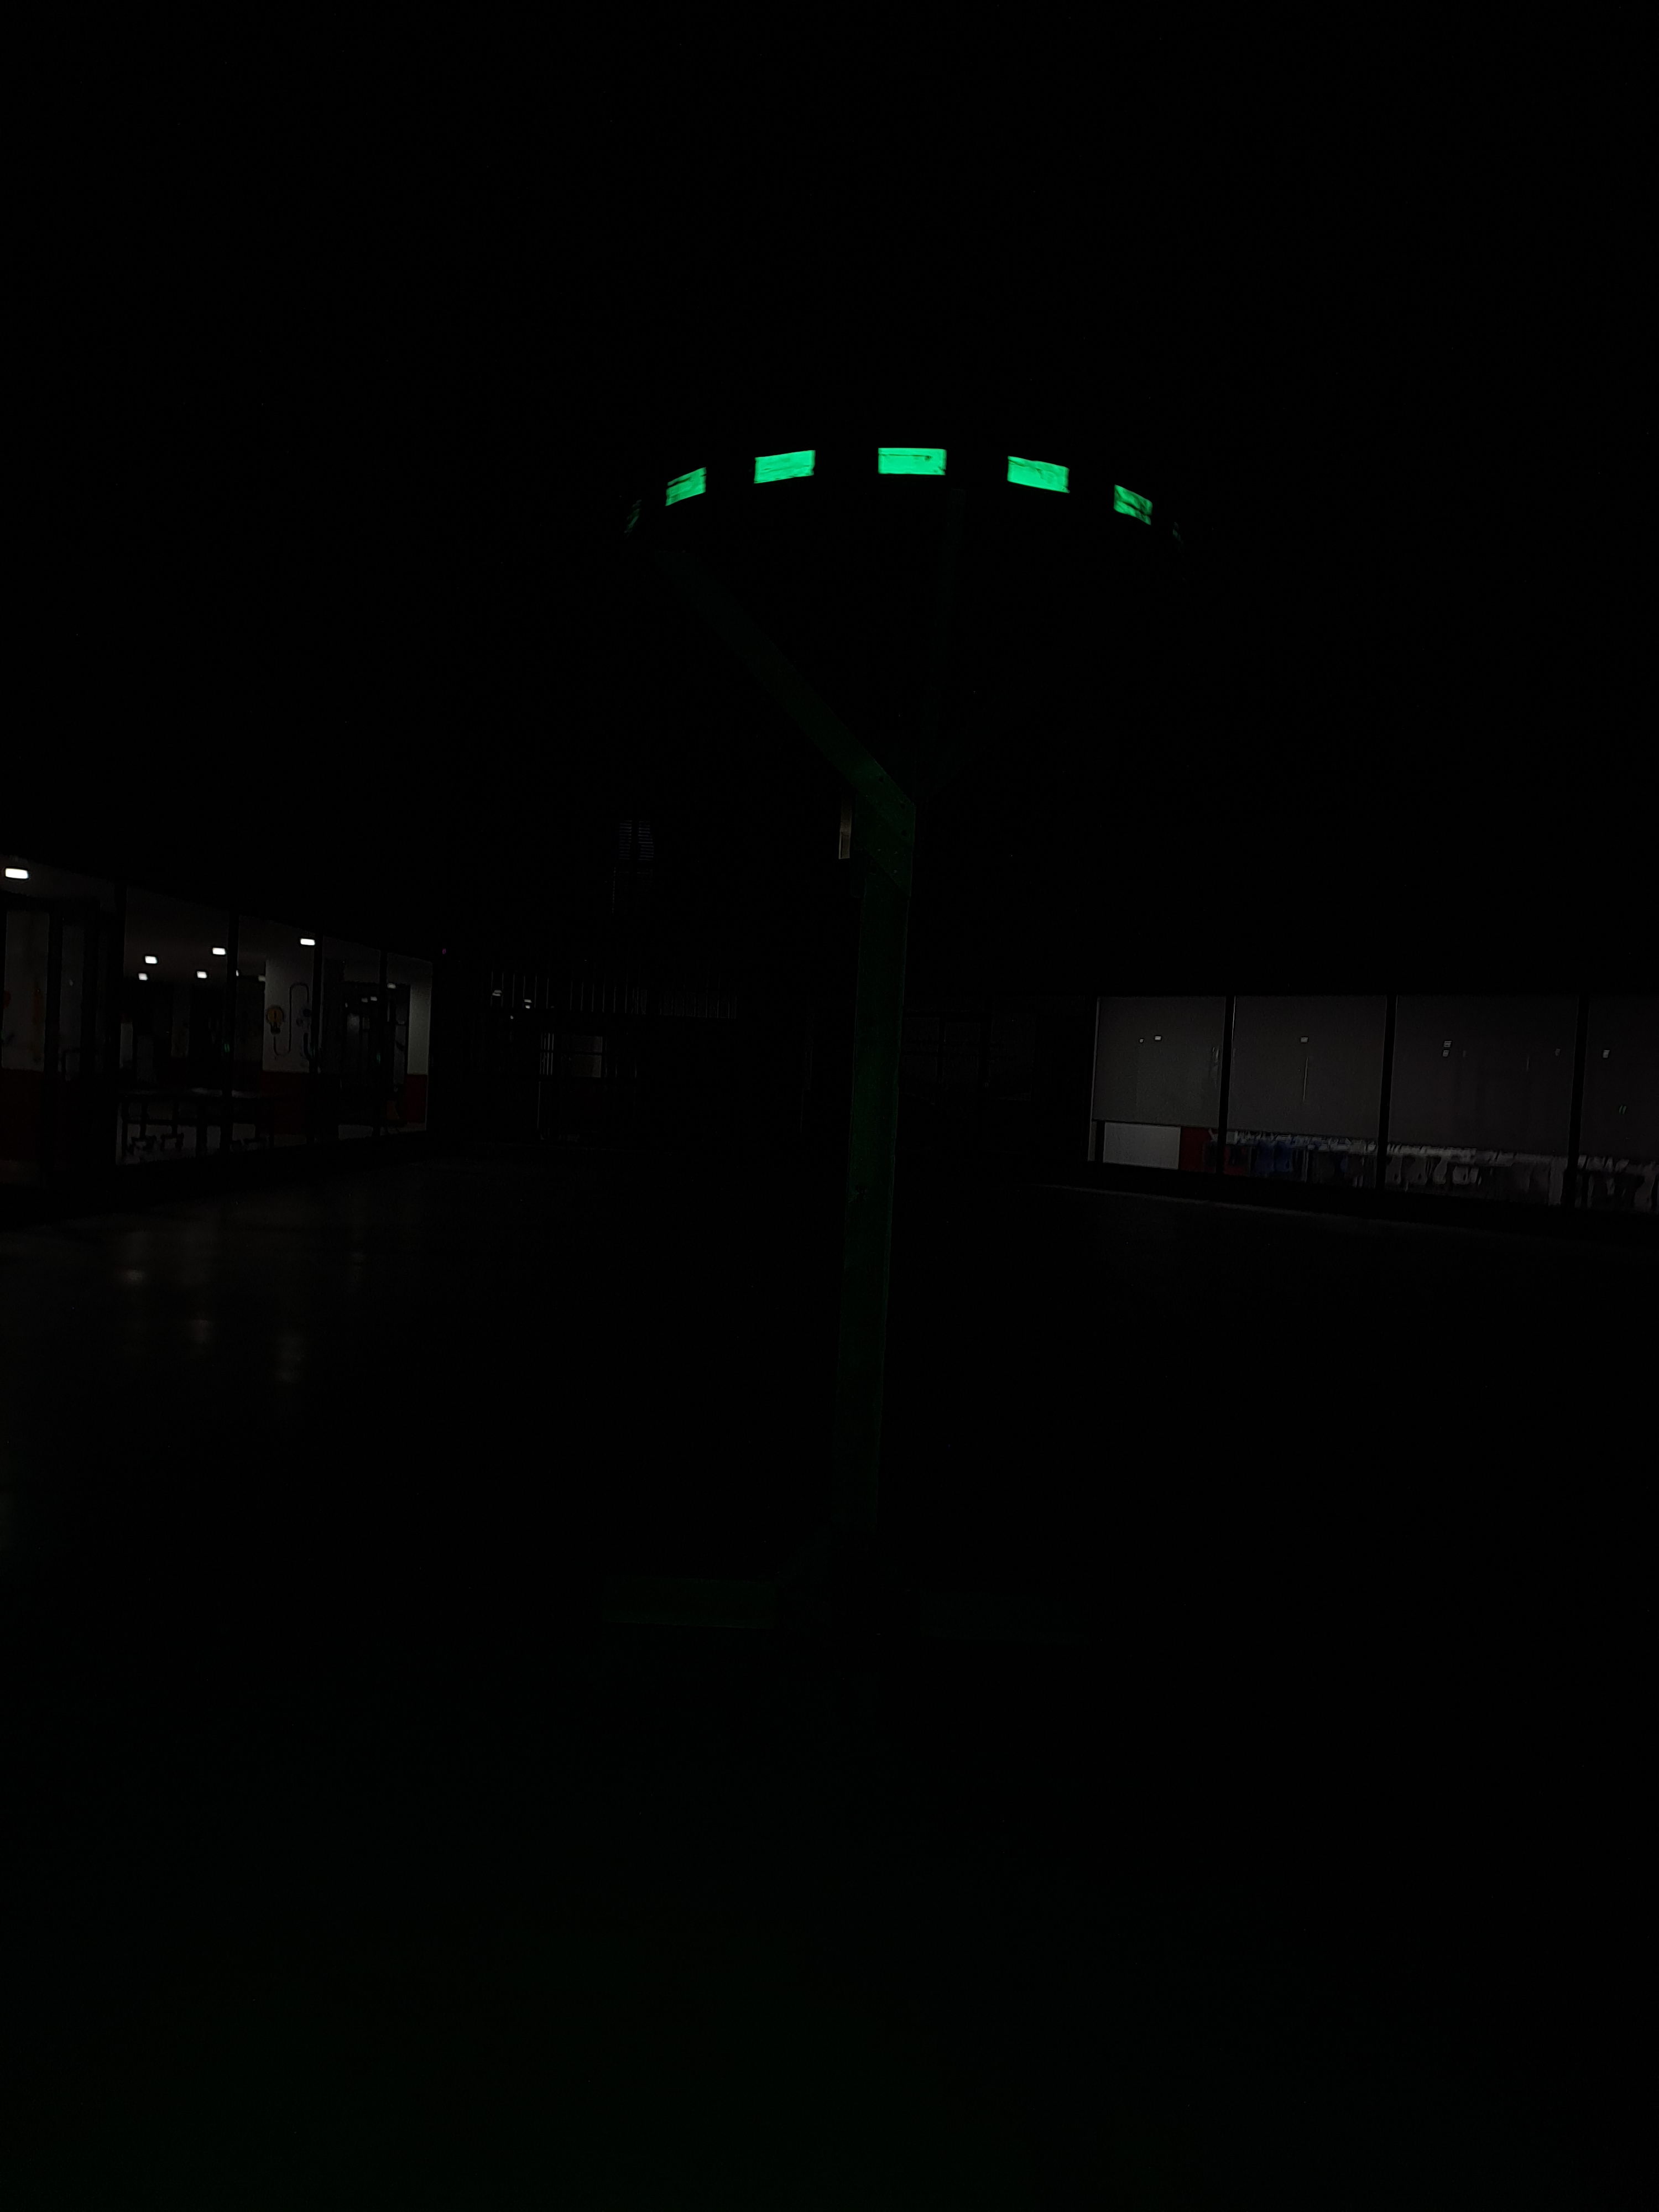hoop: (648, 423, 1161, 538)
